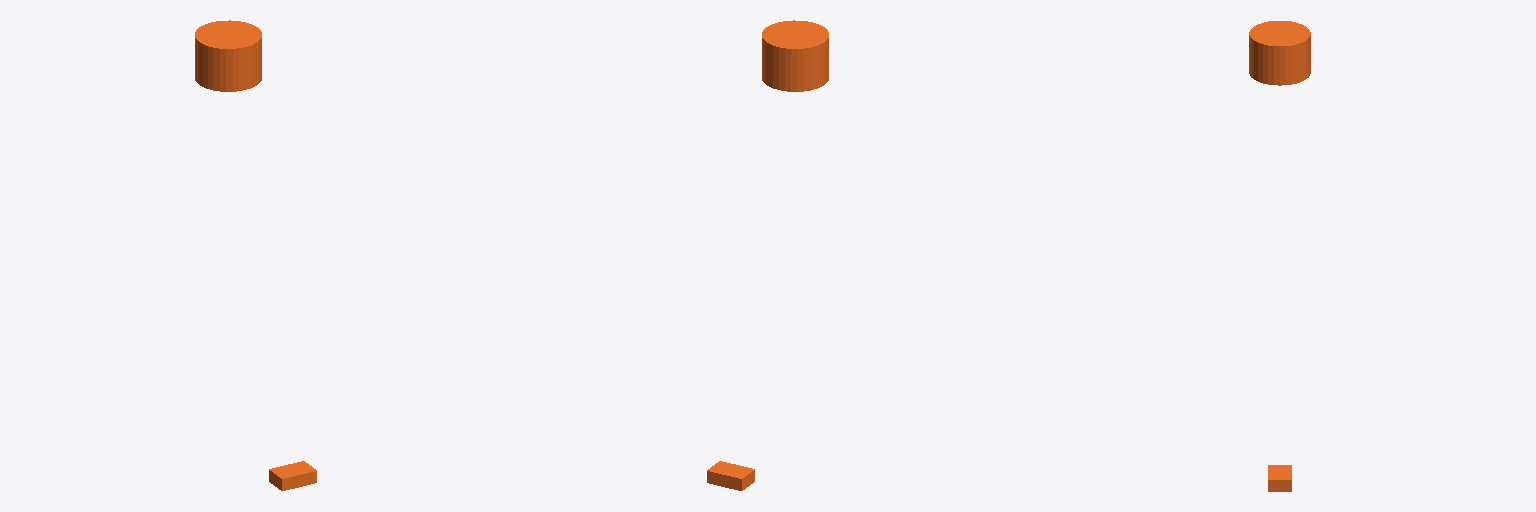
robot.urdf — agilex_scout_rs16:
<!--
  Copyright 2016 The Cartographer Authors

  Licensed under the Apache License, Version 2.0 (the "License");
  you may not use this file except in compliance with the License.
  You may obtain a copy of the License at

       http://www.apache.org/licenses/LICENSE-2.0

  Unless required by applicable law or agreed to in writing, software
  distributed under the License is distributed on an "AS IS" BASIS,
  WITHOUT WARRANTIES OR CONDITIONS OF ANY KIND, either express or implied.
  See the License for the specific language governing permissions and
  limitations under the License.

  Reference:
   [1] https://github.com/IntelRealSense/librealsense/blob/master/doc/d435i.md

-->

<robot name="agilex_scout_rs16">
  <material name="orange">
    <color rgba="1.0 0.5 0.2 1" />
  </material>
  <material name="gray">
    <color rgba="0.2 0.2 0.2 1" />
  </material>

  <!-- Robosense16 -->
  <link name="rslidar">
    <visual>
      <origin xyz="0.0 0.0 0.0" />
      <geometry>
        <cylinder length="0.07" radius="0.05" />
      </geometry>
      <material name="orange" />
    </visual>
  </link>

  <!-- Realsense D435i -->
  <link name="imu_link">
    <visual>
      <origin xyz="0.0 0.0 0.0" />
      <geometry>
        <box size="0.06 0.04 0.02" />
      </geometry>
      <material name="orange" />
    </visual>
  </link>

  <link name="base_link" />

  <joint name="rslidar_joint" type="fixed">
    <parent link="base_link" />
    <child link="rslidar" />
    <origin xyz="-0.11 0.0 0.71" rpy="0 0 0" />
  </joint>

  <joint name="imu_joint" type="fixed">
    <parent link="base_link" />
    <child link="imu_link" />
    <origin xyz="0 0 0" rpy="0 0 0" />
  </joint>

  <!-- 
  <joint name="imu_joint" type="fixed">
    <parent link="base_link" />
    <child link="camera_imu_optical_frame" />
    <origin xyz="0 0 0.0" rpy="-1.57 0 -1.57" />
  </joint>
  -->
</robot>

--- What the picture shows (computed from the rendered views, not written in the file) ---
The picture shows the robot from 3 angles, left to right: view 1: azimuth 30°, elevation 25°; view 2: azimuth 150°, elevation 25°; view 3: azimuth 270°, elevation 25°; orthographic projection.
Model agilex_scout_rs16 with 3 links and 2 joints (2 fixed), rooted at base_link, posed every joint at zero.
Links seen in each view (by area): view 1: rslidar, imu_link; view 2: rslidar, imu_link; view 3: rslidar, imu_link.
Boxes of the visible links, left/top/right/bottom form: rslidar: left=195, top=20, right=261, bottom=91; imu_link: left=269, top=461, right=316, bottom=490; rslidar: left=762, top=20, right=828, bottom=91; imu_link: left=707, top=461, right=754, bottom=490; rslidar: left=1249, top=21, right=1310, bottom=85; imu_link: left=1268, top=465, right=1291, bottom=491.
Size in the robot's own frame: 0.19 by 0.1 by 0.755 metres.
Geometry: primitives only (box / cylinder / sphere), no mesh files.
